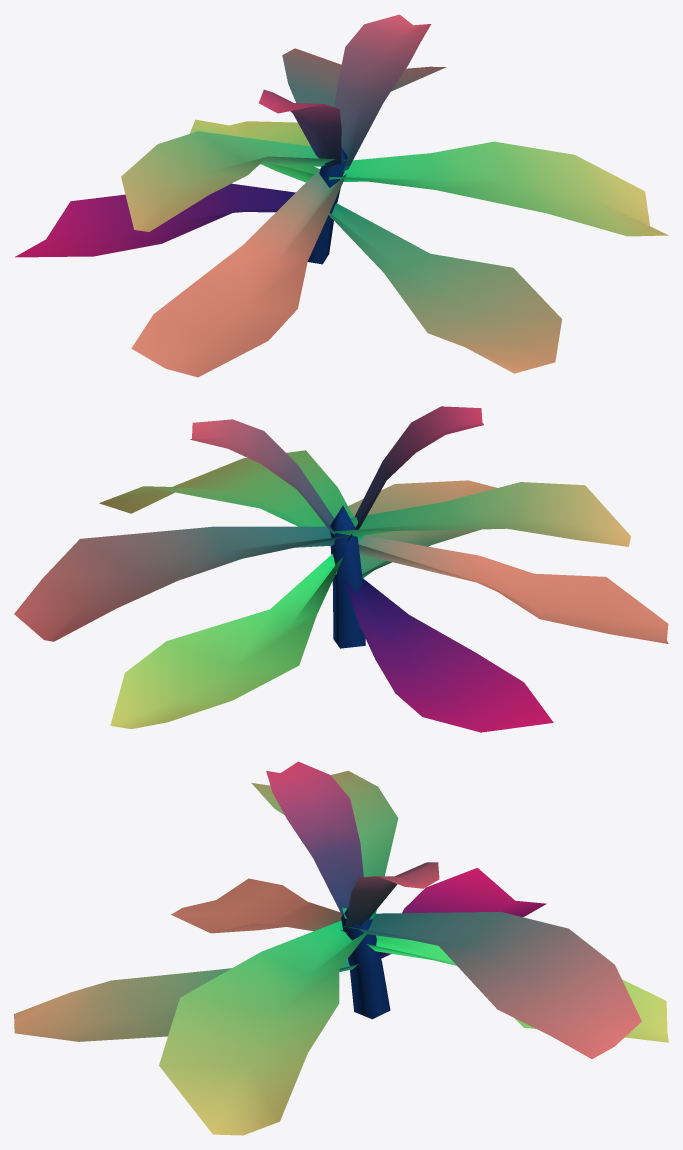
Rendered from sfcnq_VarD_LOD0.fbx.
3 renders of one model, top to bottom at view 1: azimuth 30°, elevation 25°; view 2: azimuth 150°, elevation 25°; view 3: azimuth 270°, elevation 25°, orthographic. The views are drawn at different scales.
Visible parts, largest first — view 1: _0120_VarD_LOD1; view 2: _0120_VarD_LOD1; view 3: _0120_VarD_LOD1.
Boxes of the visible parts, x1,y1,x2,y2 form: _0120_VarD_LOD1: [15, 14, 668, 377]; _0120_VarD_LOD1: [14, 406, 668, 732]; _0120_VarD_LOD1: [14, 761, 668, 1135].
Bounding box in the file's own units: 32.78 × 11.98 × 34.65.
